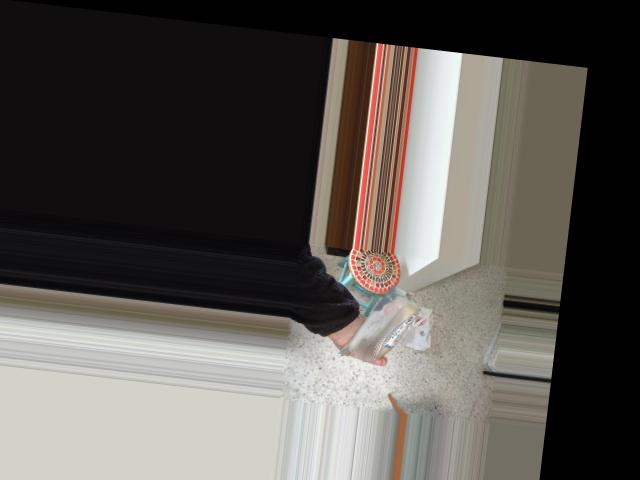cheese: (332, 257, 447, 377)
